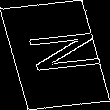N_E: (9, 31, 101, 79)
